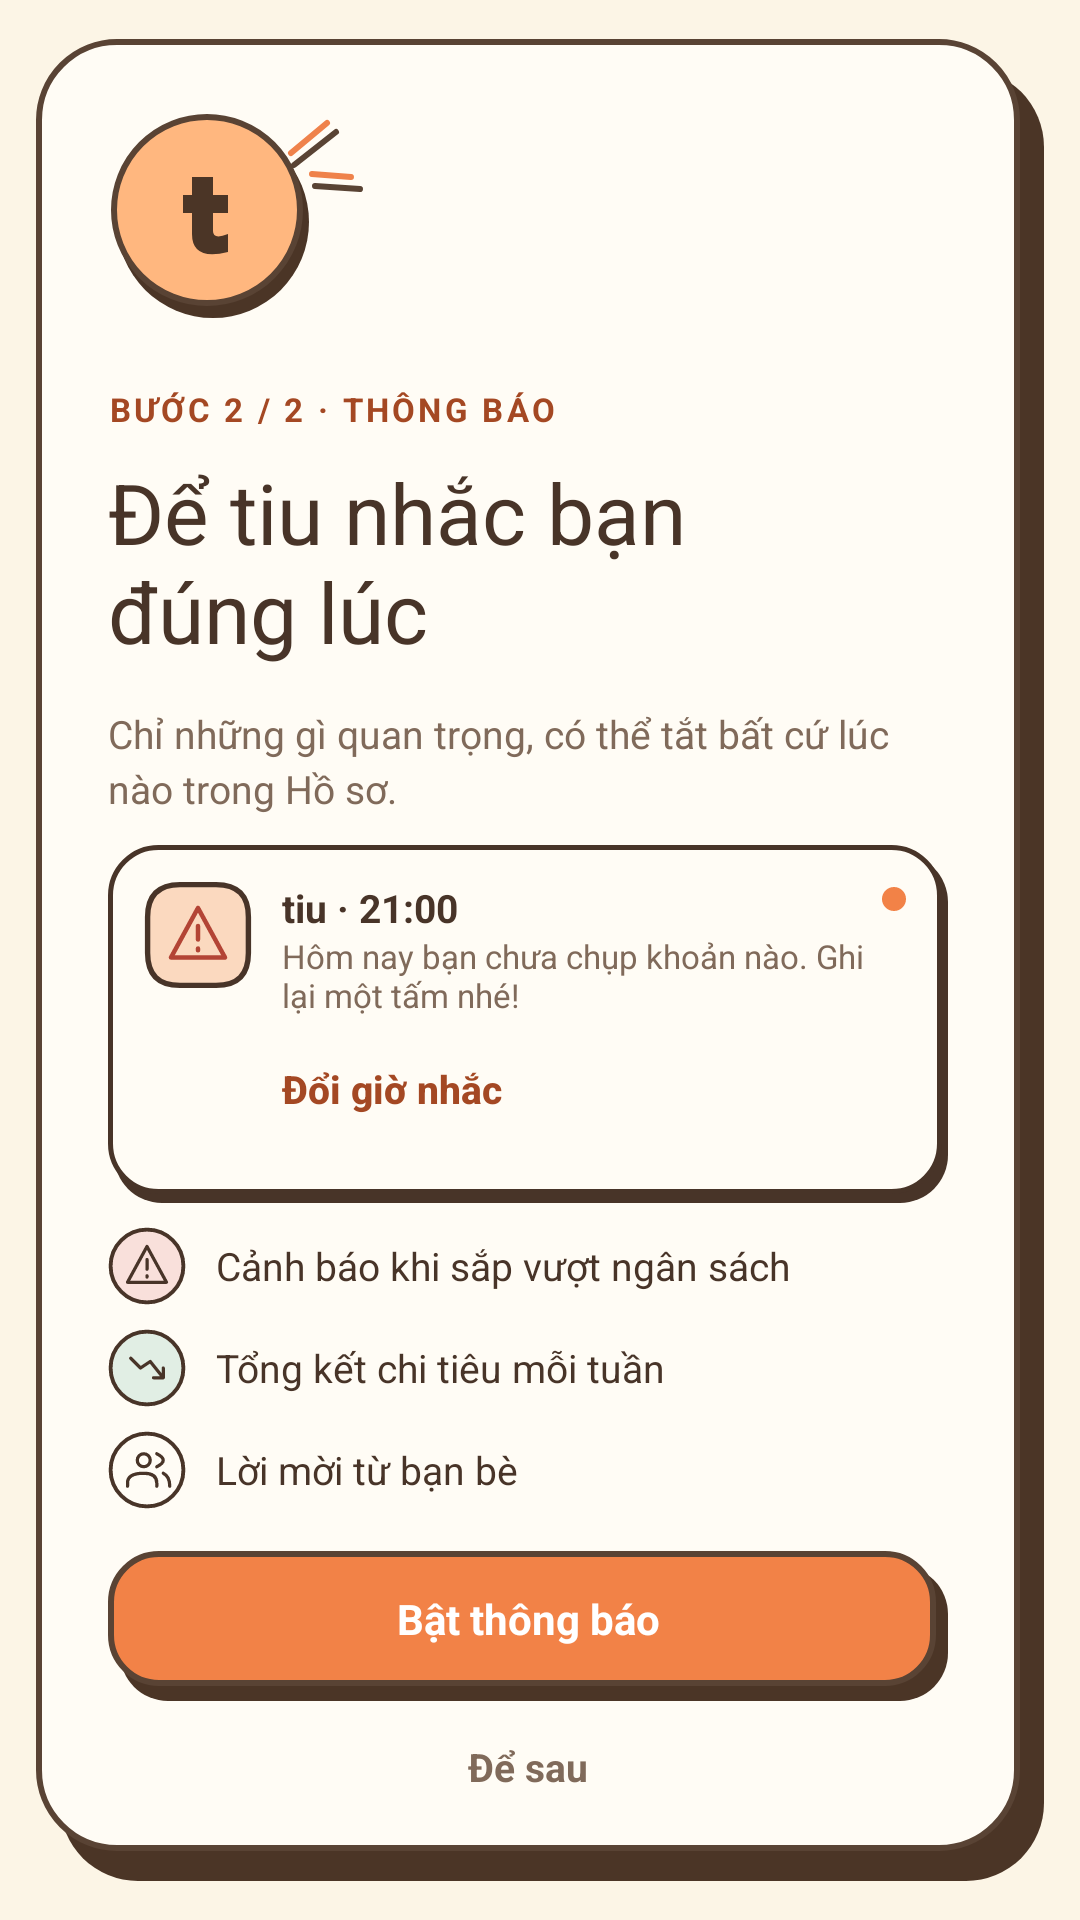

Locate icon controls on the screen. Image size 1080*1920, boxes as bbox=[x1, y1, x2, y2].
tiu notification alert: bbox=[108, 1227, 186, 1305]
tiu notification alert card: bbox=[145, 882, 251, 988]
tiu notification dot: bbox=[882, 887, 906, 911]
tiu notification friends: bbox=[108, 1431, 186, 1509]
